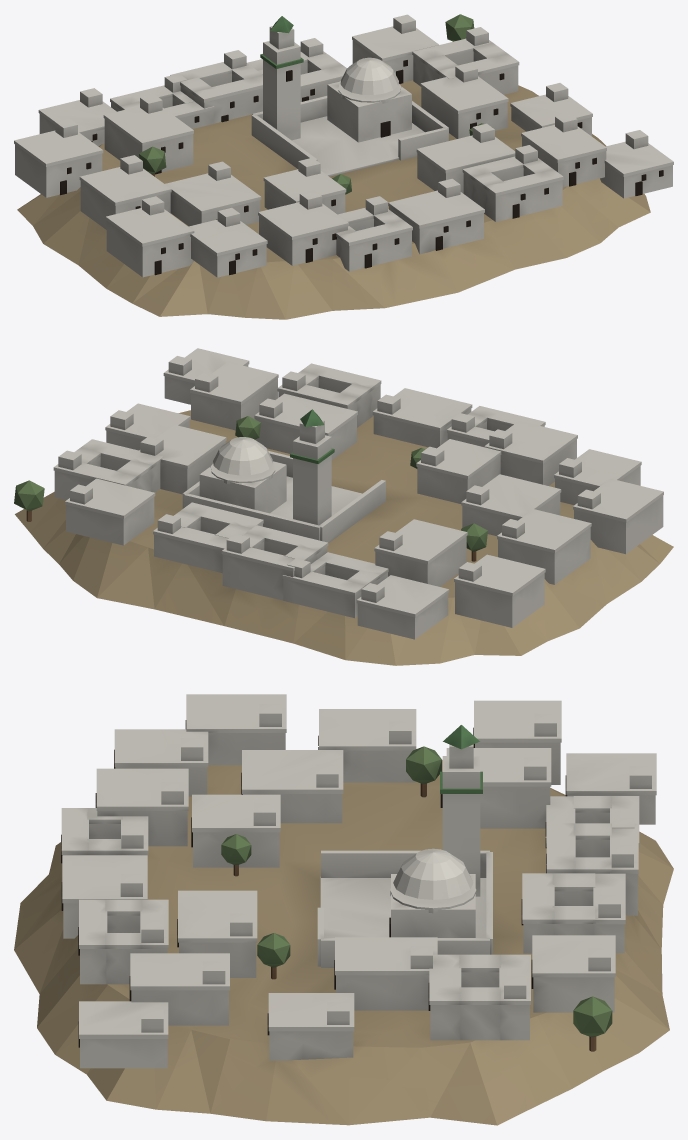
Rendered from sidi-bou-said.glb.
The picture shows the model from 3 angles, top to bottom: view 1: azimuth 30°, elevation 25°; view 2: azimuth 150°, elevation 25°; view 3: azimuth 270°, elevation 25°; orthographic projection. The views are drawn at different scales.
Visible parts, largest first — view 1: p1_zawiya, p0_village, p2_domes; view 2: p1_zawiya, p0_village, p2_domes; view 3: p1_zawiya, p0_village, p2_domes.
Part boxes in pixels (x1=…): p1_zawiya: x1=14, y1=14, x2=673, y2=277; p0_village: x1=17, y1=80, x2=650, y2=319; p2_domes: x1=139, y1=14, x2=492, y2=194; p1_zawiya: x1=53, y1=348, x2=663, y2=639; p0_village: x1=15, y1=410, x2=673, y2=665; p2_domes: x1=14, y1=409, x2=487, y2=561; p1_zawiya: x1=61, y1=694, x2=656, y2=1068; p0_village: x1=14, y1=760, x2=673, y2=1125; p2_domes: x1=221, y1=725, x2=612, y2=1051.
Bounding box in the file's own units: 88.09 × 25.6 × 70.37.
